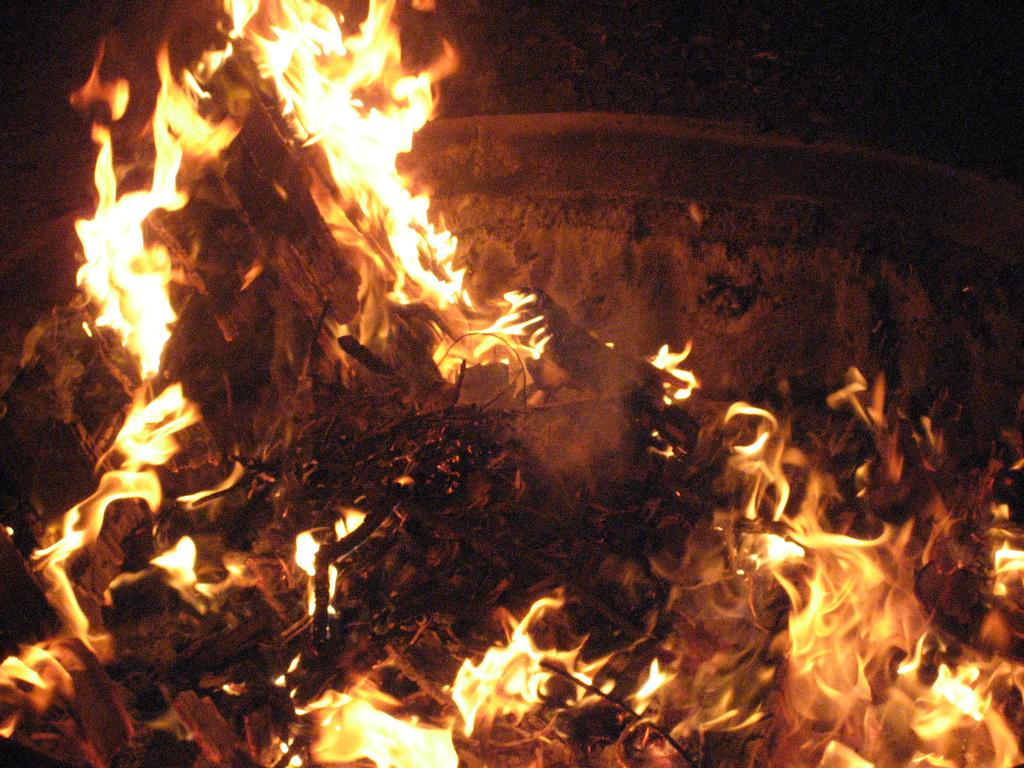fire: (306, 46, 446, 172), (90, 196, 158, 348)
